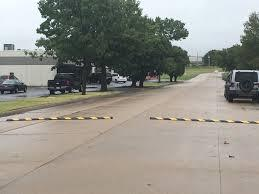Bump: (149, 114, 259, 124), (5, 116, 117, 122)
